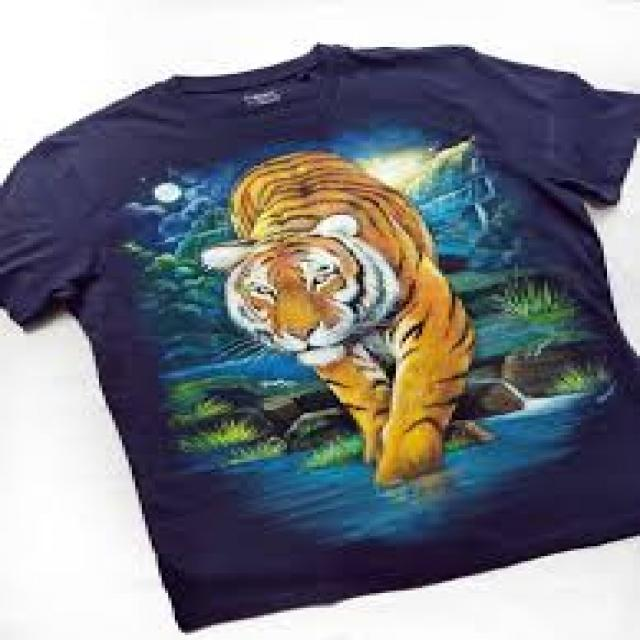Shirt: (0, 55, 640, 634)
